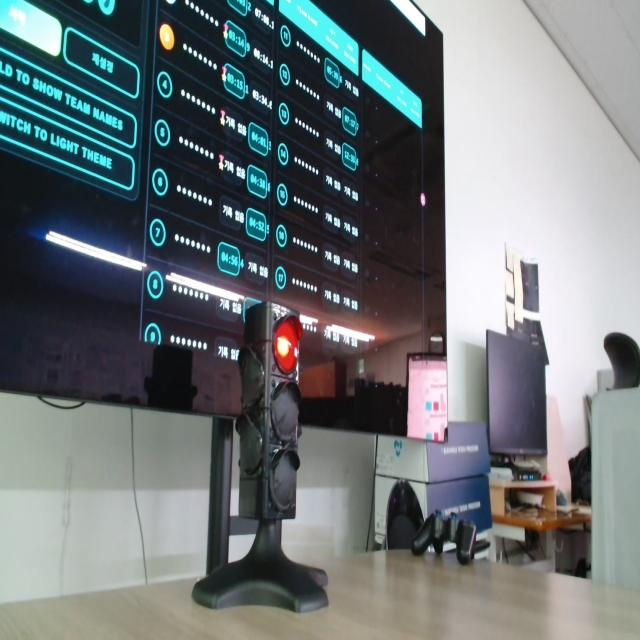red_light: (274, 317, 302, 375)
